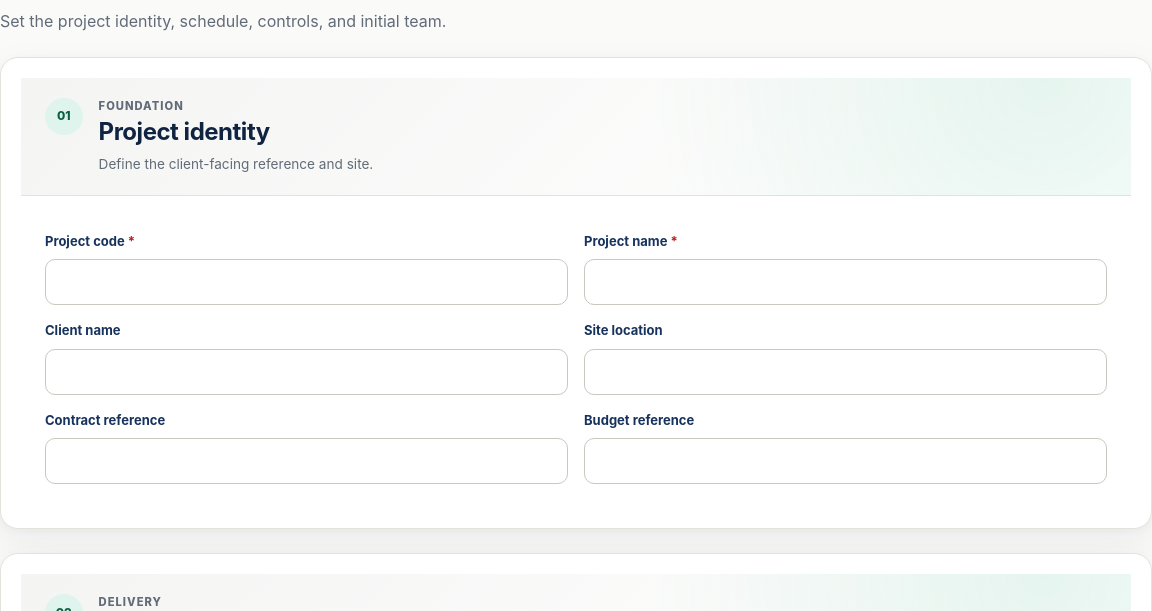
it: CreateProjectPage › preserves entered values when validation blocks submission
Type "Kampala Site" into the field labelled "Project name *" at (846, 282), box [584,259,1107,305]
(page scrolled)
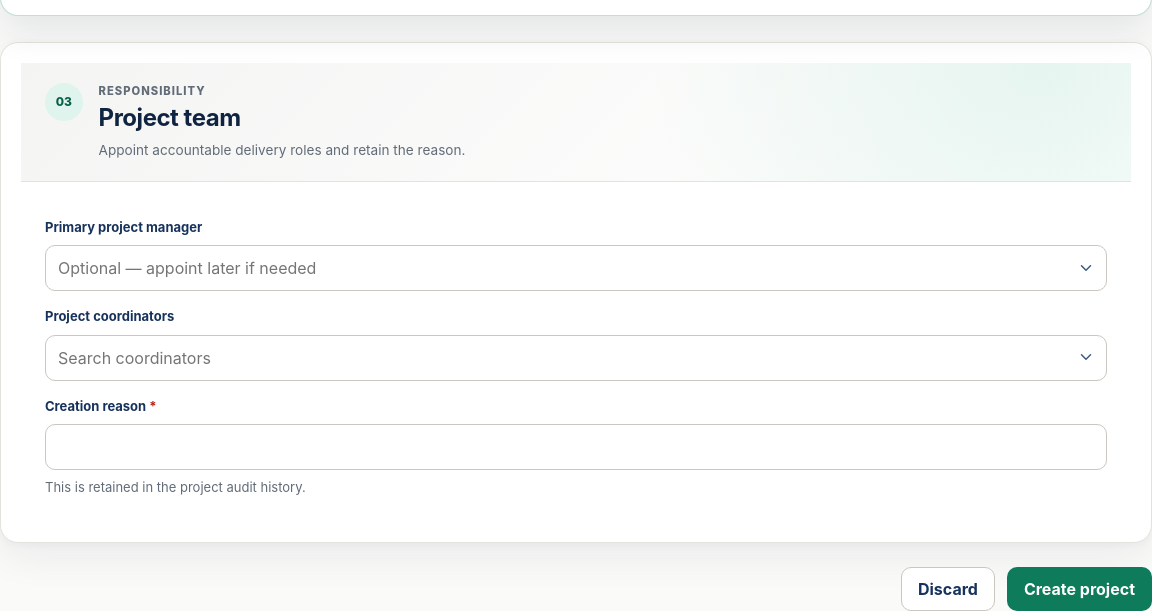
Click the button "Create project" at (1079, 589), box [1007,567,1151,610]
(page scrolled)
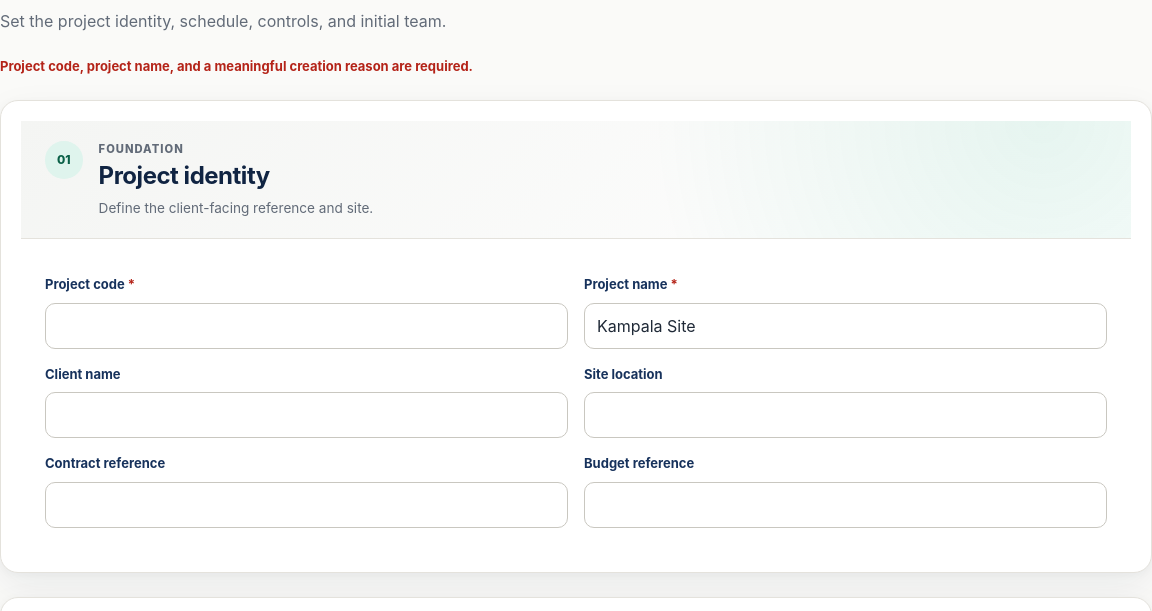
Result: the message "Project code, project name, and a meaningful creation reason are required." is shown at [0,58,473,74]
